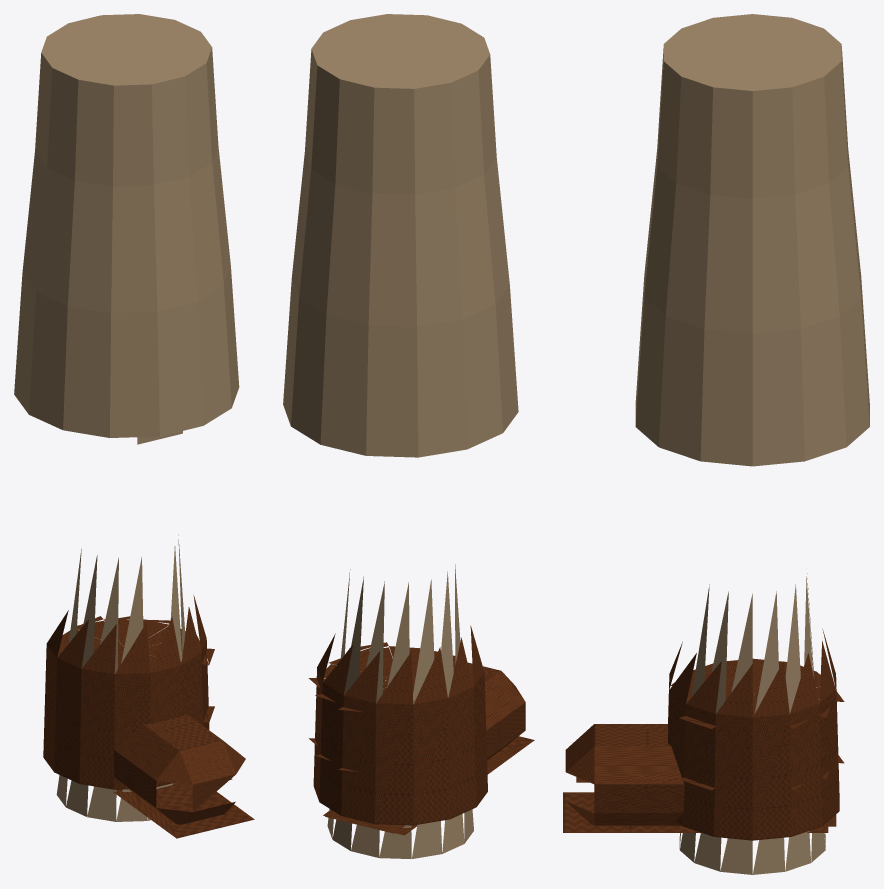
Rendered from goblin-LegL.glb.
3 views of the same model, side by side, from view 1: azimuth 30°, elevation 25°; view 2: azimuth 150°, elevation 25°; view 3: azimuth 270°, elevation 25° (orthographic). The views are drawn at different scales.
Parts seen in each view (by area): view 1: LegL_thigh-l.002, LegL_boot-l.001, LegL_shin-l.002; view 2: LegL_thigh-l.002, LegL_boot-l.001, LegL_shin-l.002; view 3: LegL_thigh-l.002, LegL_boot-l.001, LegL_shin-l.002.
Boxes of the visible parts, box(x1,y1,x2,y2) form: LegL_thigh-l.002: box(14, 14, 239, 437); LegL_boot-l.001: box(43, 595, 254, 838); LegL_shin-l.002: box(56, 431, 185, 821); LegL_thigh-l.002: box(283, 14, 518, 457); LegL_boot-l.001: box(308, 625, 534, 835); LegL_shin-l.002: box(327, 564, 473, 859); LegL_thigh-l.002: box(635, 14, 869, 466); LegL_boot-l.001: box(563, 629, 844, 840); LegL_shin-l.002: box(679, 573, 825, 874).
Bounding box in the file's own units: 0.1566 × 0.5742 × 0.1999.
Materials: 2 (1 with a texture image).
